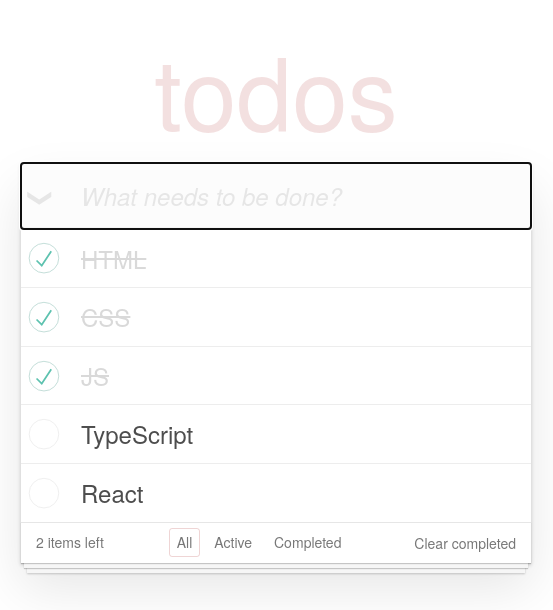
Test: Renaming › Edit Form › on Escape › should keep current title
Check: the heading "todos" is shown, box [154, 16, 398, 159]
Double-click the text with test id "TodoTitle" showing "HTML".
double_click(114, 259)  # box [81, 241, 146, 276]
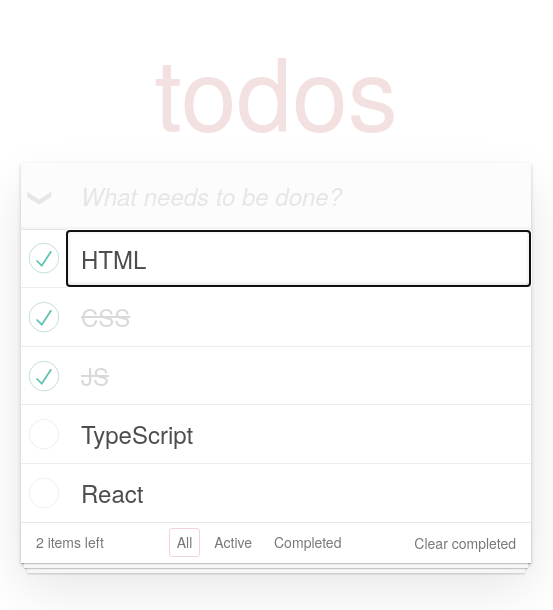
Type "123123" into the field with test id "TodoTitleField".
click(299, 259); type("123123")  # box [66, 230, 531, 288]
Then press Esc
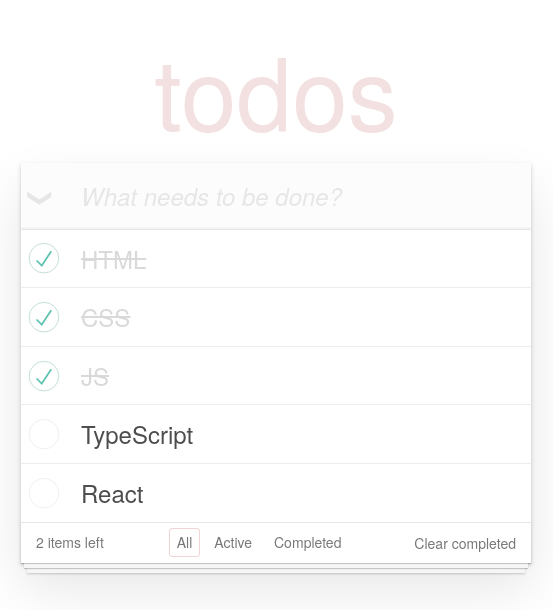
Check: the text with test id "TodoTitle" reads "HTML", box [81, 241, 146, 276]
